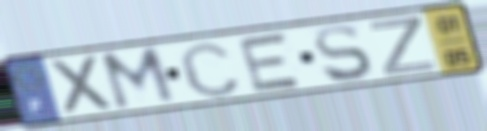C: (175, 39, 244, 100)
E: (235, 29, 306, 95)
M: (96, 43, 180, 113)
S: (311, 23, 376, 85)
X: (46, 52, 119, 118)
Z: (366, 14, 440, 78)
